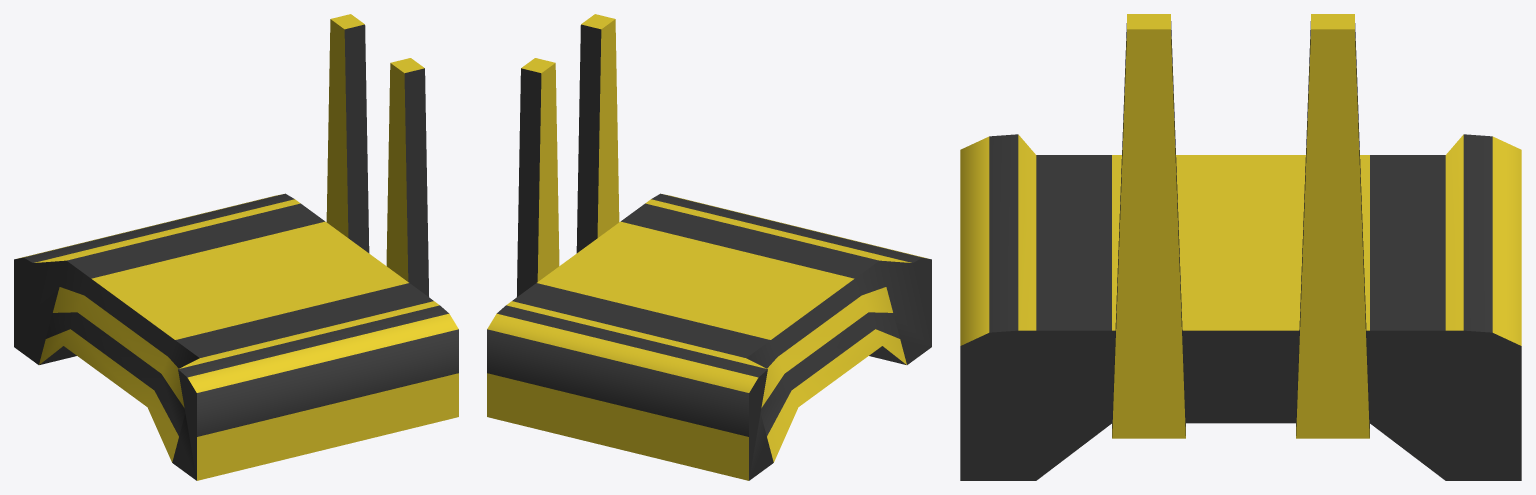
The model's file is router hiasan.fbx.
The picture shows the model from 3 angles, left to right: view 1: azimuth 30°, elevation 25°; view 2: azimuth 150°, elevation 25°; view 3: azimuth 270°, elevation 25°; orthographic projection. The views are drawn at different scales.
Visible parts, largest first — view 1: Cube.040, Cube.041; view 2: Cube.040, Cube.041; view 3: Cube.040, Cube.041.
Part boxes in pixels (x1,y1,x2,y2): Cube.040: (14, 193, 458, 480); Cube.041: (326, 14, 428, 296); Cube.040: (487, 193, 931, 480); Cube.041: (517, 14, 619, 296); Cube.040: (960, 134, 1521, 480); Cube.041: (1112, 14, 1369, 438).
Bounding box in the file's own units: 178 × 184 × 200.
